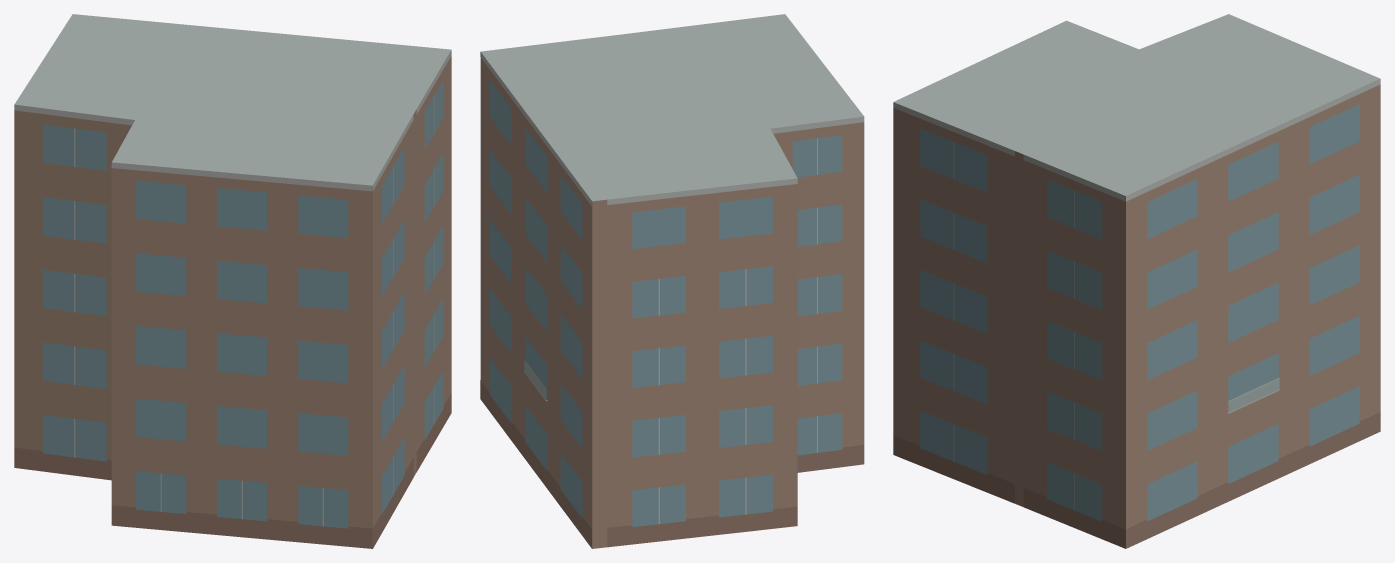
Rendered from survey-upis-32913690.glb.
The picture shows the model from 3 angles, left to right: view 1: azimuth 30°, elevation 25°; view 2: azimuth 150°, elevation 25°; view 3: azimuth 270°, elevation 25°; orthographic projection. The views are drawn at different scales.
Visible parts, largest first — view 1: survey-upis-32913690.tmp; view 2: survey-upis-32913690.tmp; view 3: survey-upis-32913690.tmp.
Part boxes in pixels (x1,y1,x2,y2): survey-upis-32913690.tmp: [14, 14, 451, 548]; survey-upis-32913690.tmp: [480, 14, 864, 548]; survey-upis-32913690.tmp: [893, 14, 1380, 548].
Bounding box in the file's own units: 17.06 × 15.4 × 19.29.
